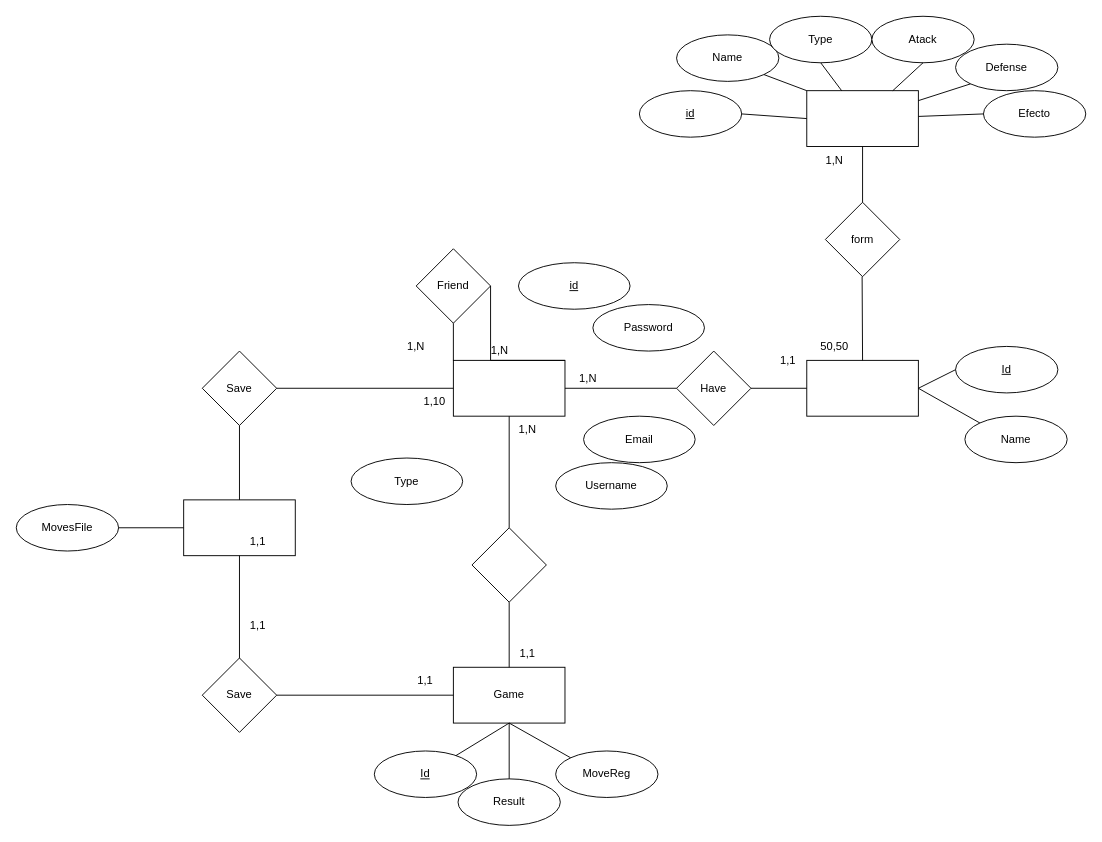
The diagram is 1102 pixels wide and 842 high, and some of its shapes have lost their labels. The box of each missing label's shape, as (x1, y1, x2, y2) in pixels:
Card: (806, 90, 918, 146)
Deck: (806, 359, 918, 416)
play: (471, 527, 546, 602)
Saved Games: (183, 499, 295, 556)
User: (452, 359, 565, 416)
